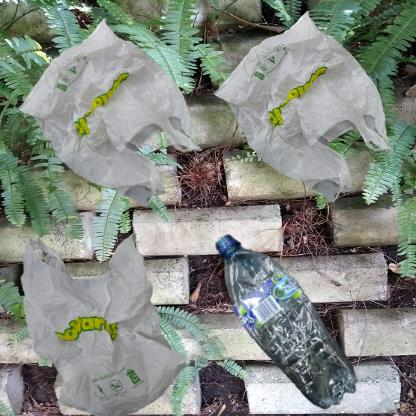bolsa: (10, 10, 208, 219), (10, 213, 204, 416), (213, 10, 394, 203)
botella: (213, 213, 378, 416)
